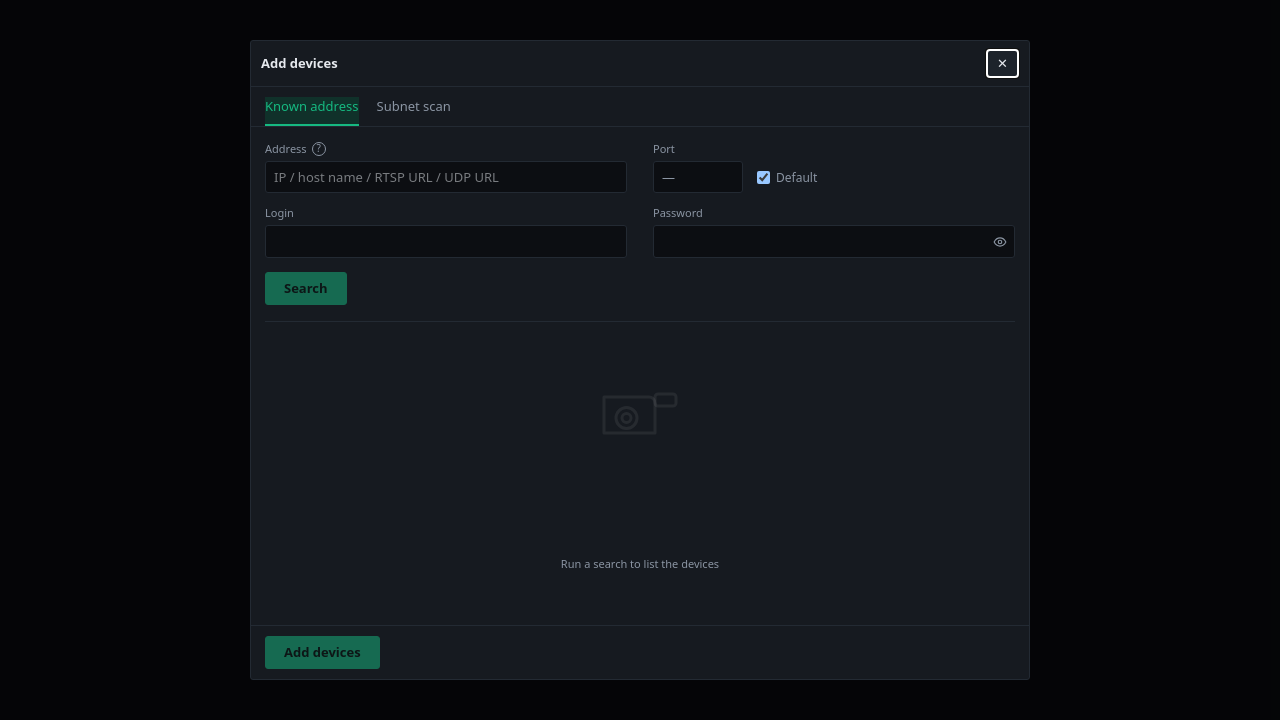
Test case: AddDeviceWizard › the Examples popover shows on hover of the ? and hides when the mouse leaves
Hover over the button with class "nx-help" at [319, 149], box [312,142,326,156]
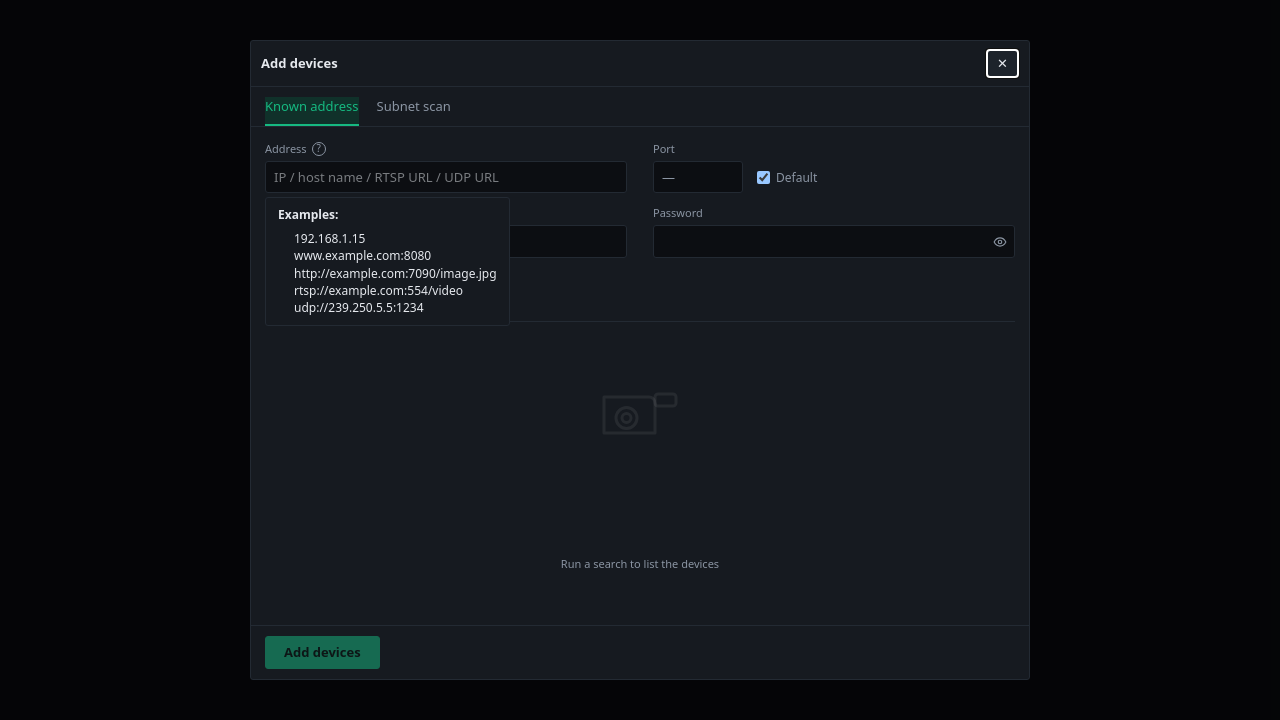
Check: the element with class "nx-help-pop" is shown, box [265,198,510,326]
Move the pointer off the button with class "nx-help", box [312,142,326,156]
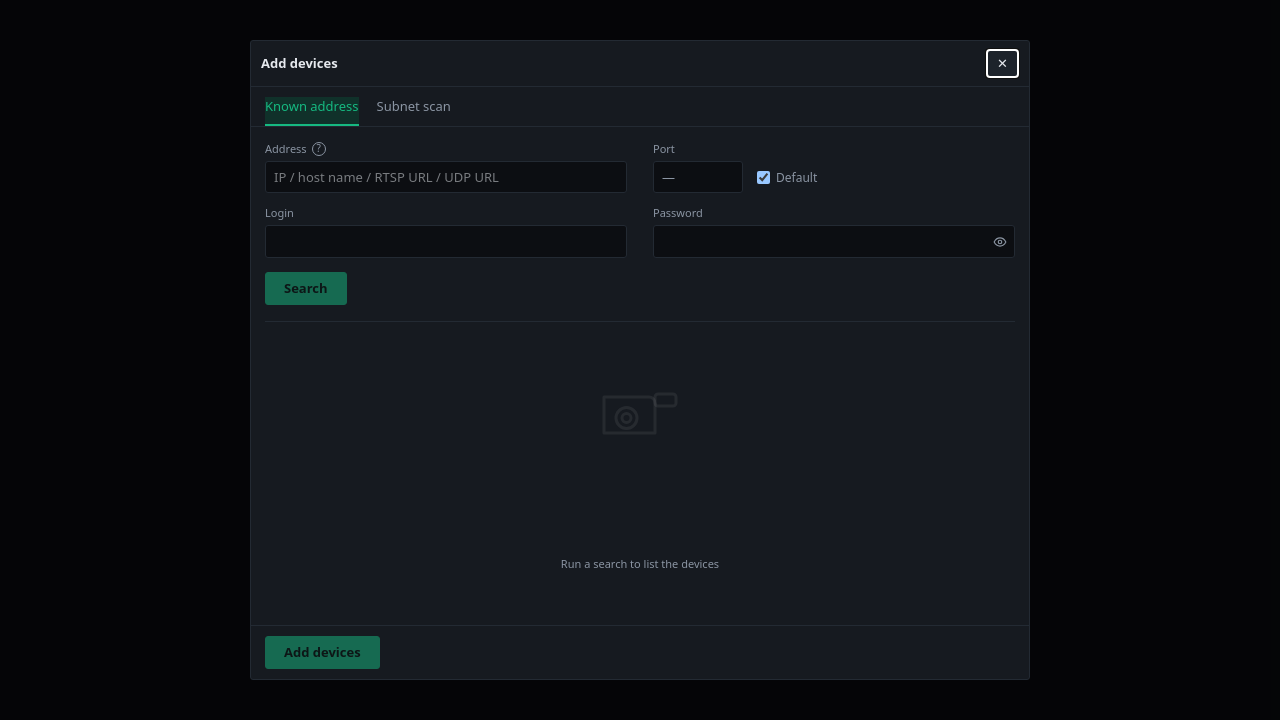
Check: the element with class "nx-help-pop" is gone
